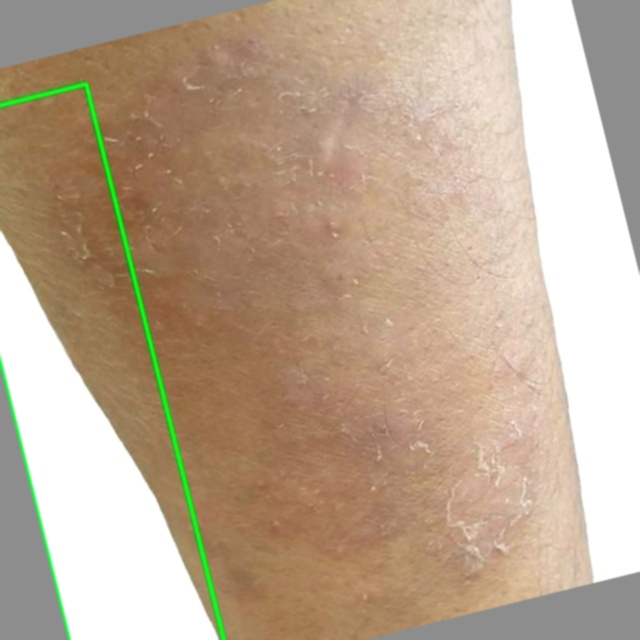Tinea Corporis: (0, 83, 225, 639)
